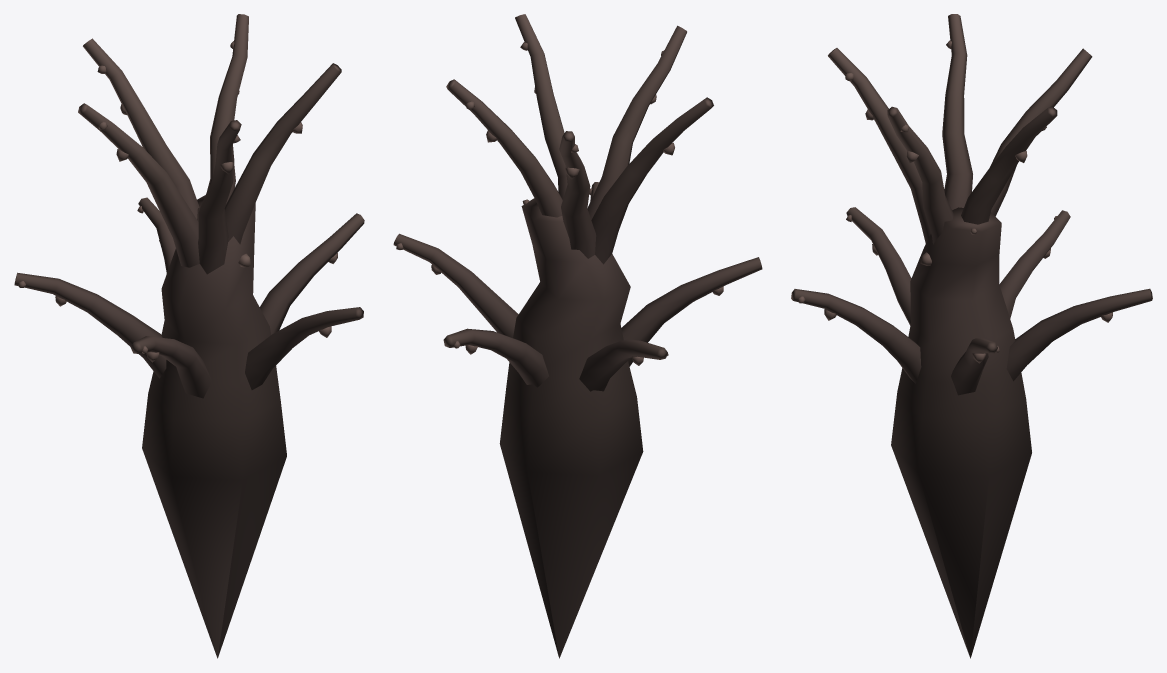
3 views of the same model, side by side, from view 1: azimuth 30°, elevation 25°; view 2: azimuth 150°, elevation 25°; view 3: azimuth 270°, elevation 25° (orthographic). The views are drawn at different scales.
Visible parts, largest first — view 1: alt67; view 2: alt67; view 3: alt67.
Boxes of the visible parts, x1,y1,x2,y2 form: alt67: (14,14,364,658); alt67: (393,14,762,658); alt67: (791,14,1152,658).
Bounding box in the file's own units: 0.2701 × 0.5 × 0.279.
